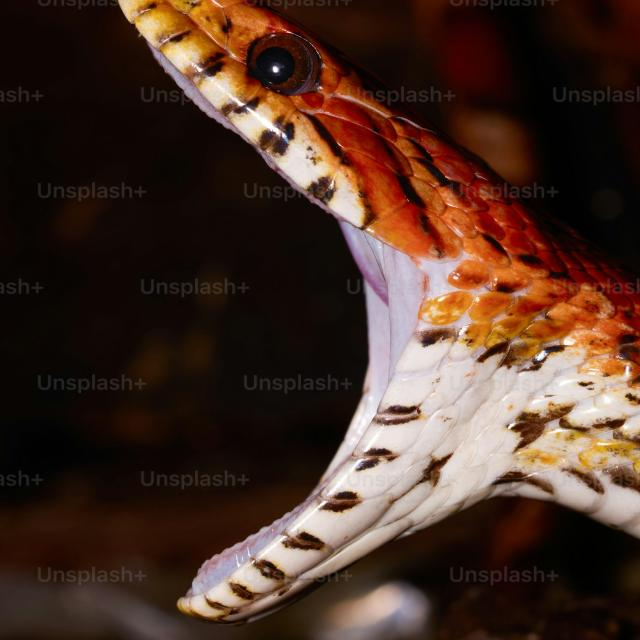Snake: (108, 0, 639, 628)
